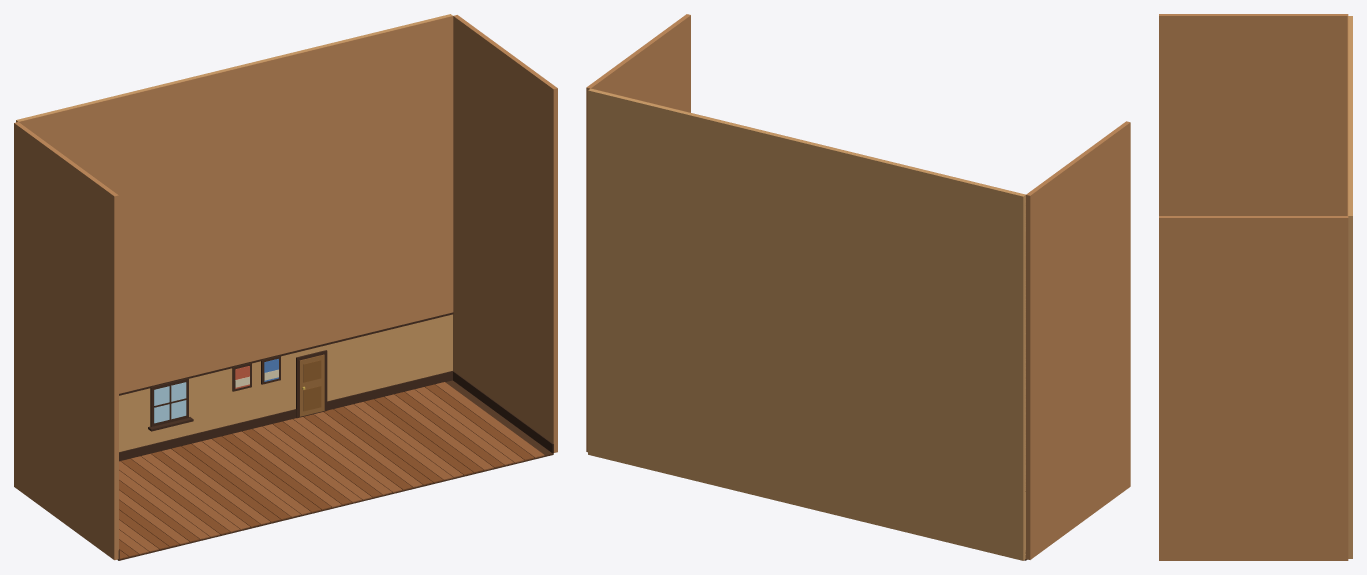
Rendered from room_africa_wood.glb.
3 views of the same model, side by side, from view 1: azimuth 30°, elevation 25°; view 2: azimuth 150°, elevation 25°; view 3: azimuth 270°, elevation 25° (orthographic). The views are drawn at different scales.
Visible parts, largest first — view 1: room; view 2: room; view 3: room.
Part boxes in pixels (x1,y1,x2,y2): room: (14,14,557,560); room: (586,14,1130,560); room: (1159,14,1352,560).
Bounding box in the file's own units: 30.6 × 24.11 × 12.3.
